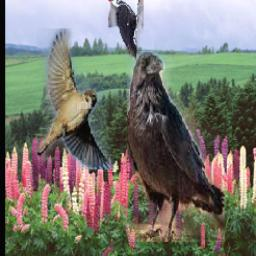Crow: (127, 52, 225, 243)
Sparrow: (35, 30, 113, 171)
Woodpecker: (108, 0, 144, 59)
